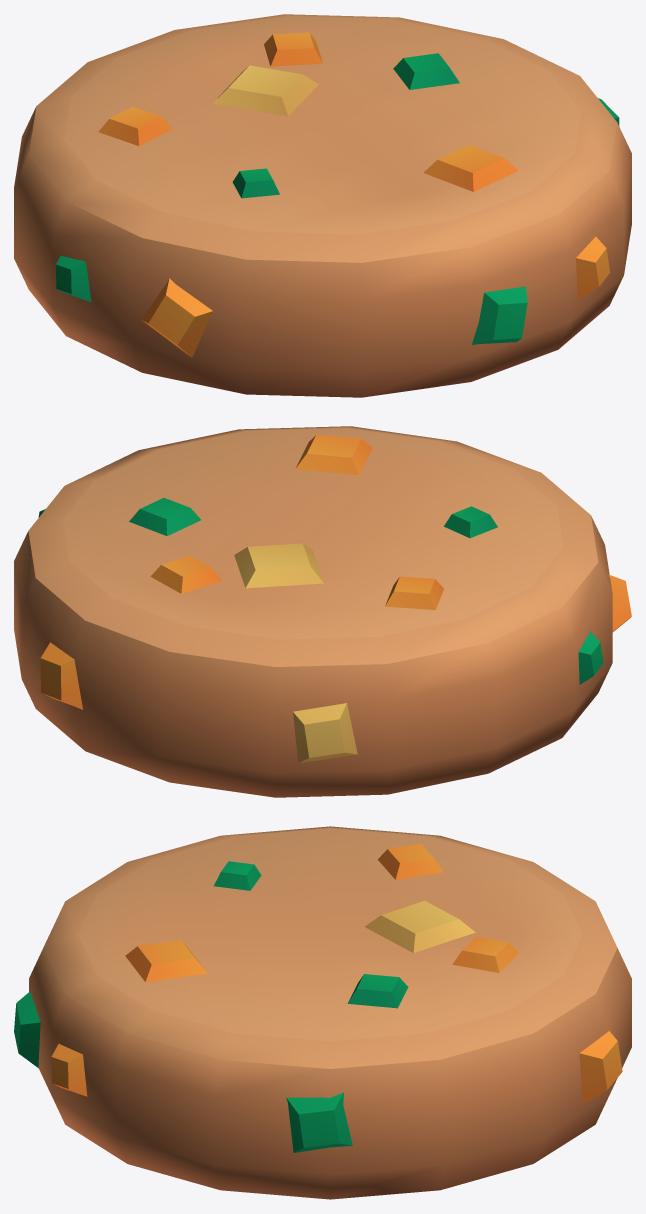
Rendered from food_ingredient_vegetableburger_uncooked.obj.
3 renders of one model, top to bottom at view 1: azimuth 30°, elevation 25°; view 2: azimuth 150°, elevation 25°; view 3: azimuth 270°, elevation 25°, orthographic. The views are drawn at different scales.
Visible parts, largest first — view 1: food_ingredient_vegetableburger_uncooked_Cylinder.178; view 2: food_ingredient_vegetableburger_uncooked_Cylinder.178; view 3: food_ingredient_vegetableburger_uncooked_Cylinder.178.
Boxes of the visible parts, box(x1,y1,x2,y2) form: food_ingredient_vegetableburger_uncooked_Cylinder.178: box(14, 14, 631, 397); food_ingredient_vegetableburger_uncooked_Cylinder.178: box(14, 426, 631, 797); food_ingredient_vegetableburger_uncooked_Cylinder.178: box(14, 826, 631, 1199).
Bounding box in the file's own units: 0.728 × 0.216 × 0.7173.
1 material, 1 textured.
